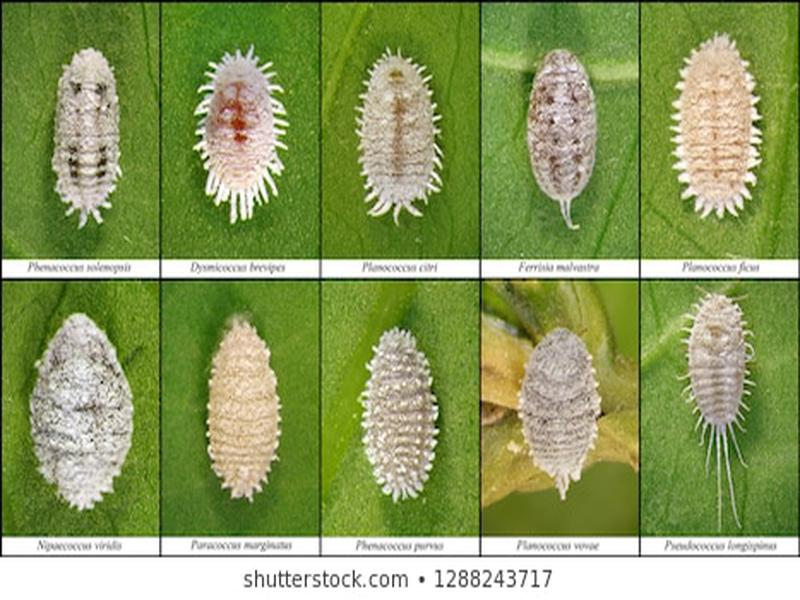Mealy_bug: (26, 304, 140, 520), (661, 31, 782, 221), (187, 39, 297, 226), (195, 316, 297, 508), (348, 45, 453, 225), (509, 324, 617, 499), (39, 45, 134, 232), (352, 319, 448, 504), (513, 46, 605, 220), (678, 287, 762, 464)
